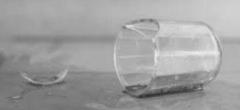glass: (112, 16, 223, 100)
